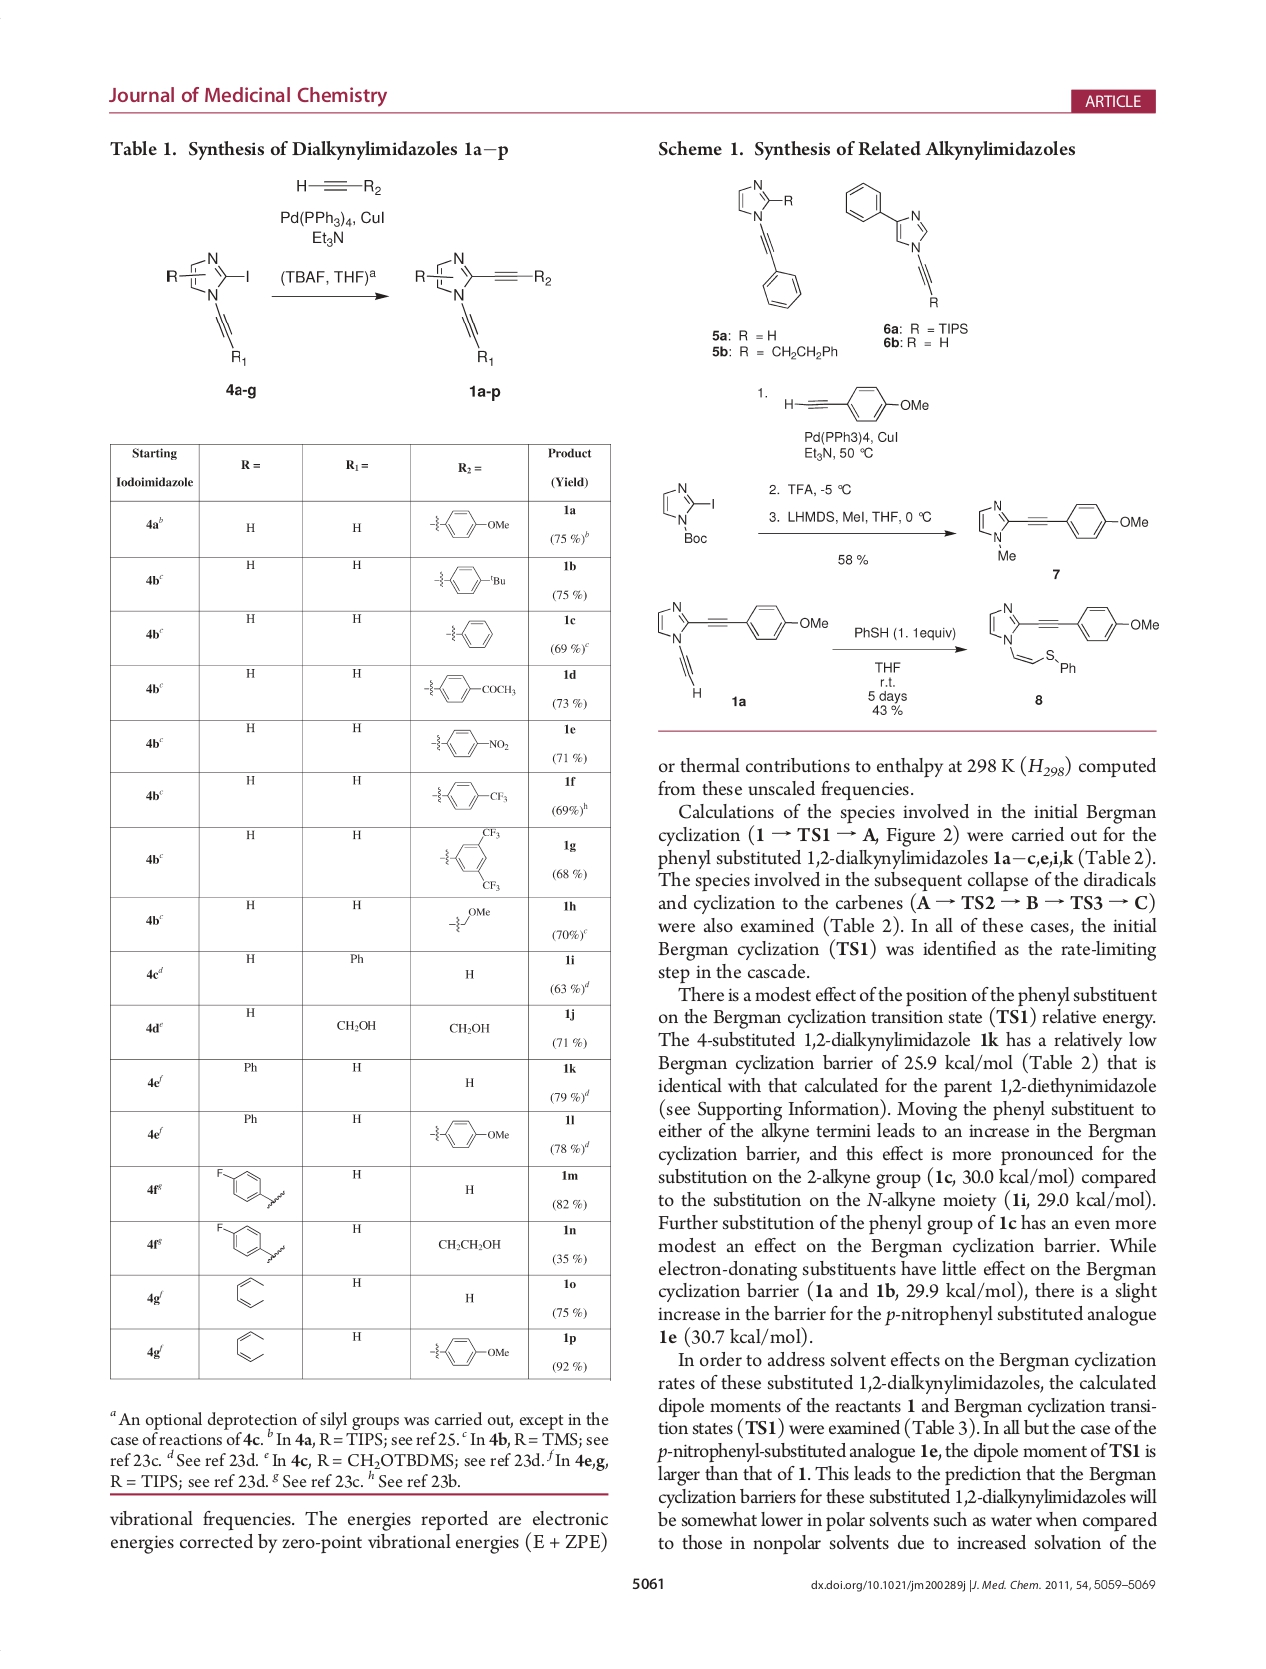exist_molecular: (652, 598, 831, 701), (411, 247, 555, 368), (840, 176, 947, 311), (985, 598, 1162, 677), (973, 493, 1152, 563), (162, 247, 257, 368), (731, 173, 806, 314), (781, 383, 931, 426), (435, 827, 505, 894), (660, 479, 715, 547), (420, 670, 519, 707), (213, 1165, 286, 1212), (426, 505, 512, 543), (426, 1335, 511, 1371), (215, 1222, 289, 1263), (430, 778, 512, 814), (426, 1118, 512, 1152), (430, 726, 511, 759), (291, 170, 387, 198), (430, 564, 505, 596), (444, 617, 496, 653), (443, 904, 491, 938), (233, 1329, 266, 1363), (234, 1275, 265, 1313)
